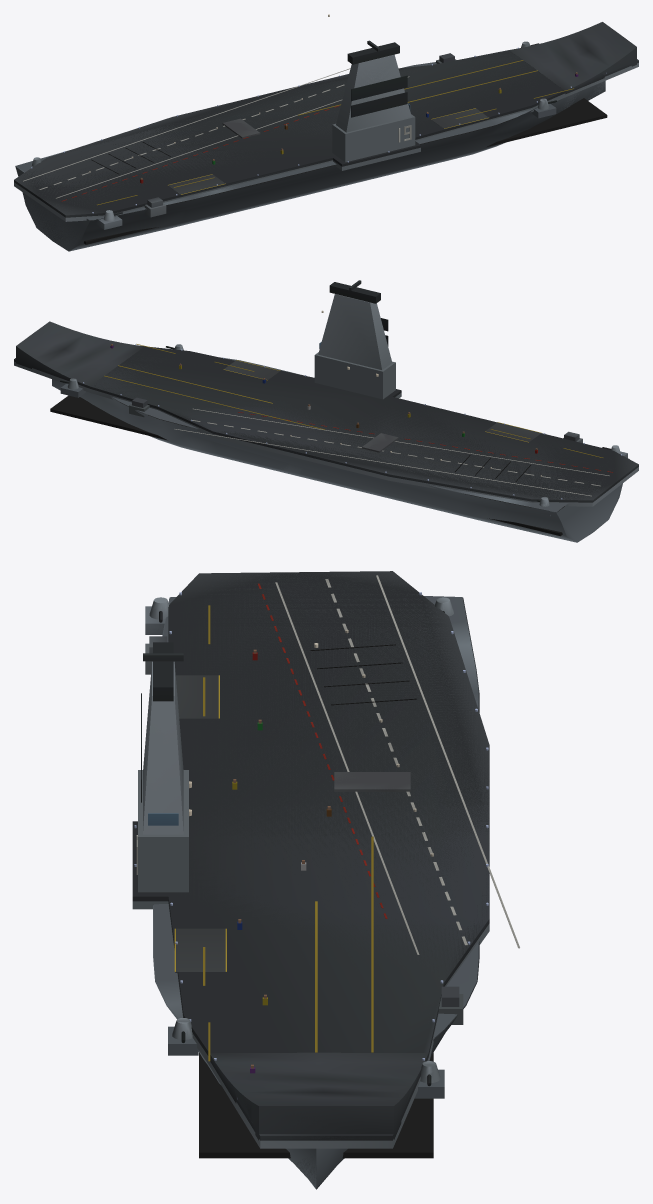
Rendered from naval-cvchina.glb.
The picture shows the model from 3 angles, top to bottom: view 1: azimuth 30°, elevation 25°; view 2: azimuth 150°, elevation 25°; view 3: azimuth 270°, elevation 25°; orthographic projection. The views are drawn at different scales.
Parts seen in each view (by area): view 1: cv_china_body, cv_china_body_l1; view 2: cv_china_body, cv_china_body_l1; view 3: cv_china_body, cv_china_body_l1, cv_china_jbd.
Boxes of the visible parts, x1=… form: cv_china_body: x1=14, y1=14, x2=638, y2=251; cv_china_body_l1: x1=14, y1=16, x2=638, y2=250; cv_china_body: x1=14, y1=282, x2=638, y2=542; cv_china_body_l1: x1=14, y1=282, x2=638, y2=541; cv_china_body: x1=132, y1=571, x2=519, y2=1189; cv_china_body_l1: x1=132, y1=571, x2=489, y2=1186; cv_china_jbd: x1=334, y1=772, x2=410, y2=791.
Size of the model in its own units: 5.24 by 1.35 by 1.52.
